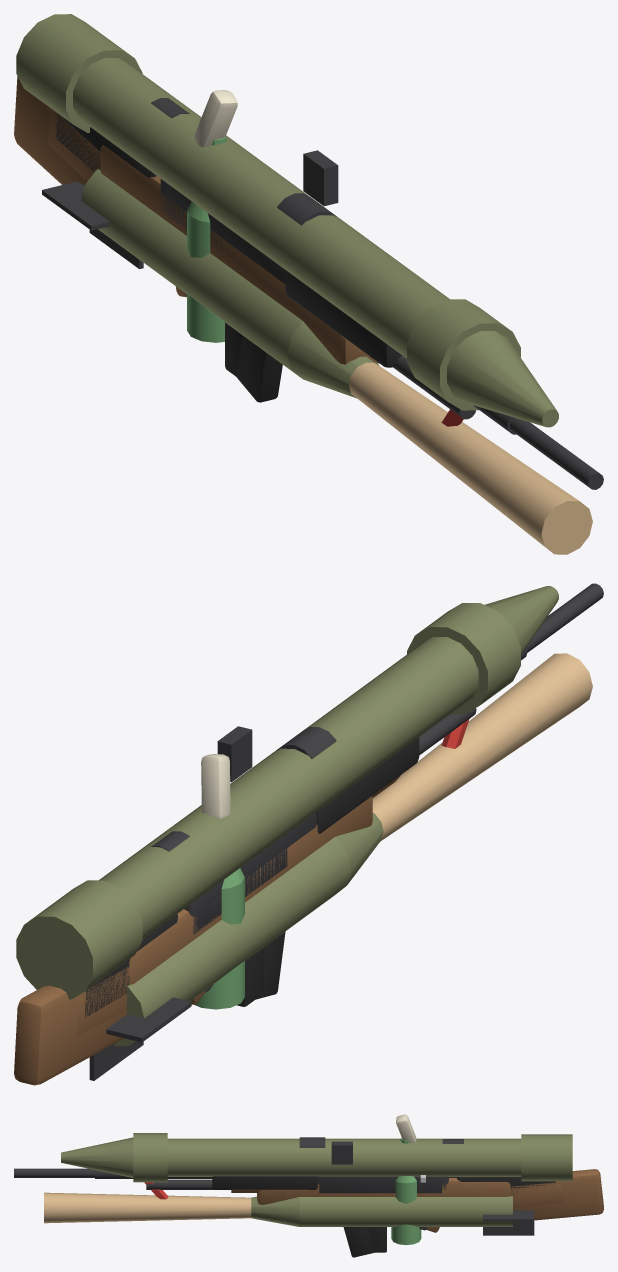
Rendered from weapons.glb.
3 renders of one model, top to bottom at view 1: azimuth 30°, elevation 25°; view 2: azimuth 150°, elevation 25°; view 3: azimuth 270°, elevation 25°, orthographic. The views are drawn at different scales.
Parts seen in each view (by area): view 1: w_rpg, w_rocket, w_bat, w_sniper, w_rifle, w_molotov, w_shotgun, w_smg; view 2: w_rpg, w_sniper, w_rocket, w_bat, w_rifle, w_molotov, w_shotgun, w_smg; view 3: w_rpg, w_rocket, w_sniper, w_bat, w_rifle, w_shotgun, w_molotov, w_smg.
Boxes of the visible parts, x1,y1,x2,y2 form: w_rpg: [16, 14, 558, 427]; w_rocket: [42, 169, 379, 398]; w_bat: [349, 362, 592, 554]; w_sniper: [14, 76, 603, 489]; w_rifle: [56, 113, 401, 402]; w_molotov: [187, 90, 237, 342]; w_shotgun: [48, 109, 516, 434]; w_smg: [185, 293, 242, 378]; w_rpg: [16, 586, 558, 999]; w_sniper: [14, 583, 603, 1085]; w_rocket: [89, 813, 383, 1080]; w_bat: [372, 653, 592, 841]; w_rifle: [85, 737, 419, 1017]; w_molotov: [194, 754, 244, 1009]; w_shotgun: [76, 647, 527, 1035]; w_smg: [205, 947, 264, 1006]; w_rpg: [61, 1133, 572, 1182]; w_rocket: [251, 1196, 534, 1235]; w_sniper: [14, 1137, 603, 1222]; w_bat: [44, 1192, 251, 1223]; w_rifle: [212, 1176, 555, 1257]; w_shotgun: [95, 1170, 564, 1232]; w_molotov: [391, 1114, 421, 1245]; w_smg: [367, 1177, 456, 1252].
Size of the model in its own units: 0.14 by 0.3643 by 1.38.
